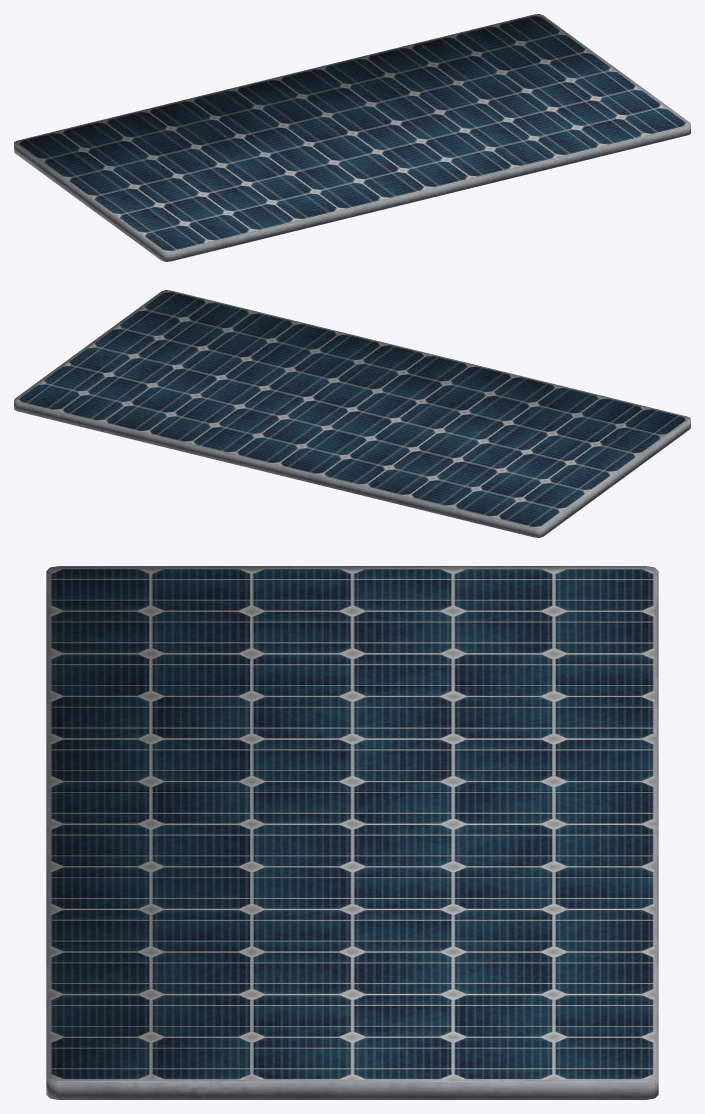
File: panel3.glb
3 views of the same model, one above another, from view 1: azimuth 30°, elevation 25°; view 2: azimuth 150°, elevation 25°; view 3: azimuth 270°, elevation 25° (orthographic). The views are drawn at different scales.
Visible parts, largest first — view 1: Cube; view 2: Cube; view 3: Cube.
Boxes of the visible parts, x1,y1,x2,y2 form: Cube: [14, 14, 690, 261]; Cube: [14, 290, 690, 537]; Cube: [46, 566, 658, 1099].
Size of the model in its own units: 1.86 by 0.03 by 0.935.
Materials: 1 (1 with a texture image).
